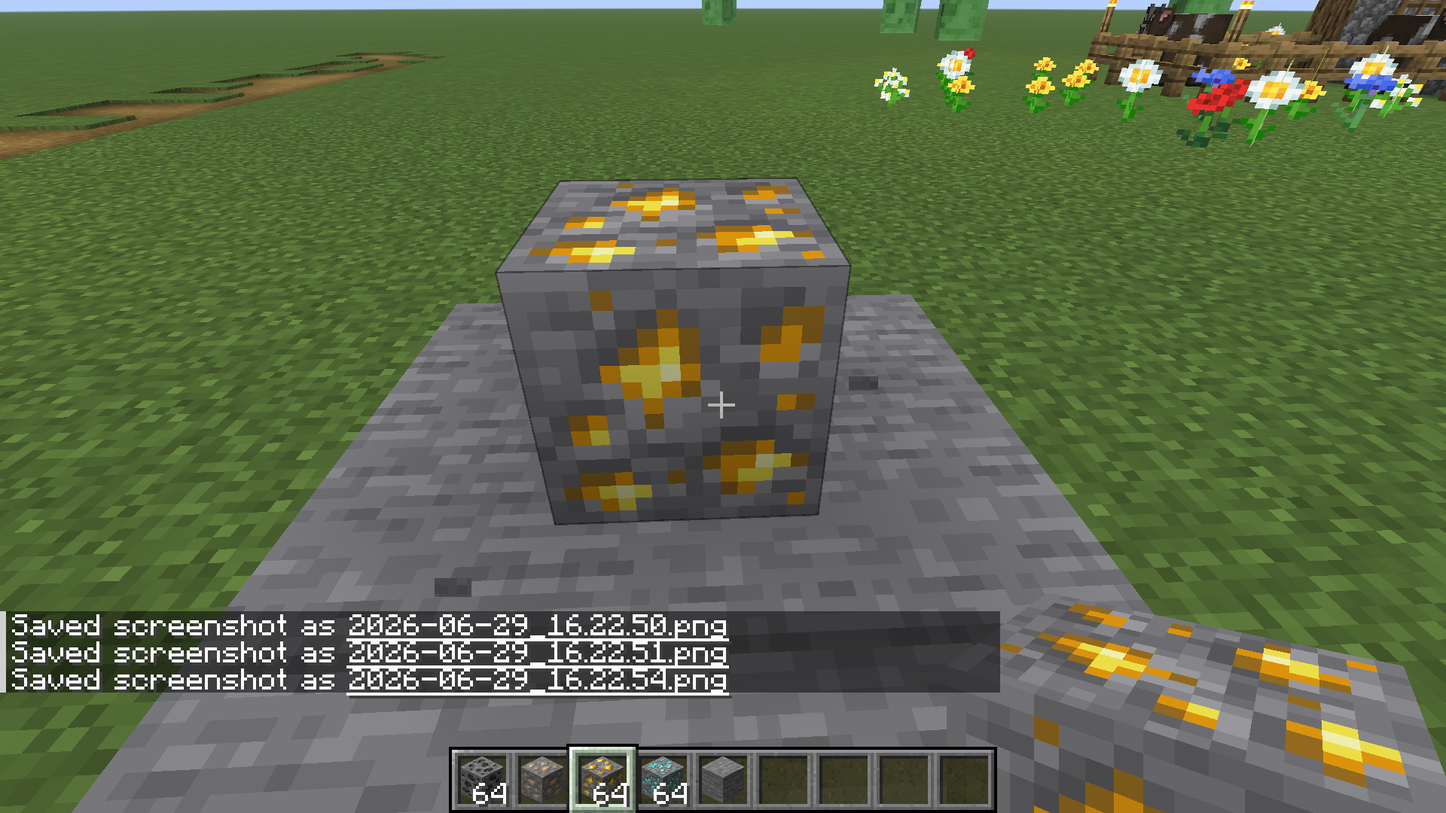cow: (1139, 0, 1230, 62)
gold ore: (498, 182, 847, 524)
